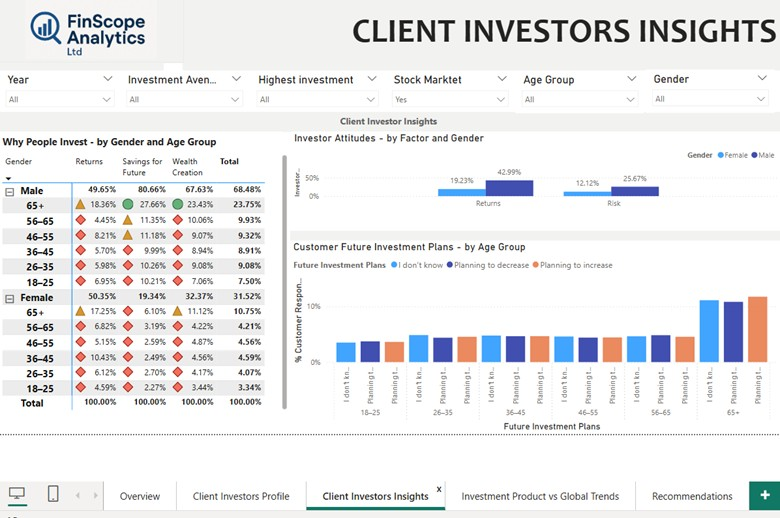

The dashboard page shown, as its layout file describes it:
{"tool":"powerbi","page":{"name":"Client Investors Insights","canvas":[1280,720],"ordinal":2},"visuals":[{"type":"textbox","box":[0,0,1280,122.9],"z":0},{"type":"image","box":[0,0,301.4,110],"z":1000},{"type":"slicer","fields":{"Values":["finance_project finance_trends.Year"]},"box":[0,122.9,198.6,87.1],"z":2000},{"type":"slicer","fields":{"Values":["finance_project finance_trends.Highest_investment"]},"box":[411.4,122.9,220,77.1],"z":3000},{"type":"slicer","fields":{"Values":["finance_project finance_trends.Investment_Avenues"]},"box":[197.1,122.9,211.4,87.1],"z":4000},{"type":"slicer","fields":{"Values":["finance_project finance_trends.Stock_Marktet"]},"box":[632.9,122.9,211.4,77.1],"z":5000},{"type":"textbox","box":[0,386.4,1280,32.6],"z":6000},{"type":"textbox","box":[0,190.5,1280,32.7],"z":7000},{"type":"slicer","fields":{"Values":["finance_project finance_trends.Age Group"]},"box":[845.7,122.9,211.4,70],"z":8000},{"type":"clusteredColumnChart","fields":{"Category":["finance_project finance_trends.Factor","finance_project finance_trends.Age Group"],"Y":["CountNonNull(finance_project finance_trends.Age Group)"],"Series":["finance_project finance_trends.gender"]},"box":[478,223.5,802.3,180],"z":9000},{"type":"slicer","fields":{"Values":["finance_project finance_trends.gender"]},"box":[1060,121.4,211.4,71.4],"z":10000},{"type":"pivotTable","fields":{"Columns":["finance_project finance_trends.Purpose"],"Rows":["finance_project finance_trends.gender","finance_project finance_trends.Age Group"],"Values":["Min(finance_project customer_investment.customer_id)"]},"box":[0,257.1,477.6,462.6],"z":11000},{"type":"textbox","box":[0,223.1,463.9,34],"z":12000},{"type":"columnChart","title":"Customer Future Investment Plans  - by Age Group","fields":{"Category":["finance_project finance_trends.Age Group","finance_project finance_trends.Future_Investment_Plans"],"Series":["finance_project finance_trends.Future_Investment_Plans"],"Y":["CountNonNull(finance_project finance_trends.customer_id)"]},"box":[478,419,802.3,301.1],"z":13000}]}

Visuals, with their boxes on the page's 1280x720 design canvas (x1, y1, x2, y2). These are canvas units, not pixel positions in the 780x518 screenshot, which may show the page scaled, cropped or inside an application window:
textbox: <bbox>0, 0, 1280, 123</bbox>
image: <bbox>0, 0, 301, 110</bbox>
slicer - finance_project finance_trends.Year: <bbox>0, 123, 199, 210</bbox>
slicer - finance_project finance_trends.Highest_investment: <bbox>411, 123, 631, 200</bbox>
slicer - finance_project finance_trends.Investment_Avenues: <bbox>197, 123, 408, 210</bbox>
slicer - finance_project finance_trends.Stock_Marktet: <bbox>633, 123, 844, 200</bbox>
textbox: <bbox>0, 386, 1280, 419</bbox>
textbox: <bbox>0, 190, 1280, 223</bbox>
slicer - finance_project finance_trends.Age Group: <bbox>846, 123, 1057, 193</bbox>
clusteredColumnChart - finance_project finance_trends.Factor x finance_project finance_trends.Age Group: <bbox>478, 224, 1280, 404</bbox>
slicer - finance_project finance_trends.gender: <bbox>1060, 121, 1271, 193</bbox>
pivotTable - finance_project finance_trends.Purpose x finance_project finance_trends.gender: <bbox>0, 257, 478, 720</bbox>
textbox: <bbox>0, 223, 464, 257</bbox>
"Customer Future Investment Plans  - by Age Group" columnChart: <bbox>478, 419, 1280, 720</bbox>
